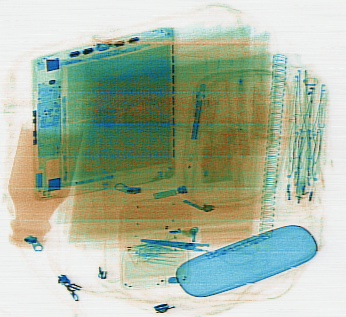scissors: (140, 232, 255, 265)
